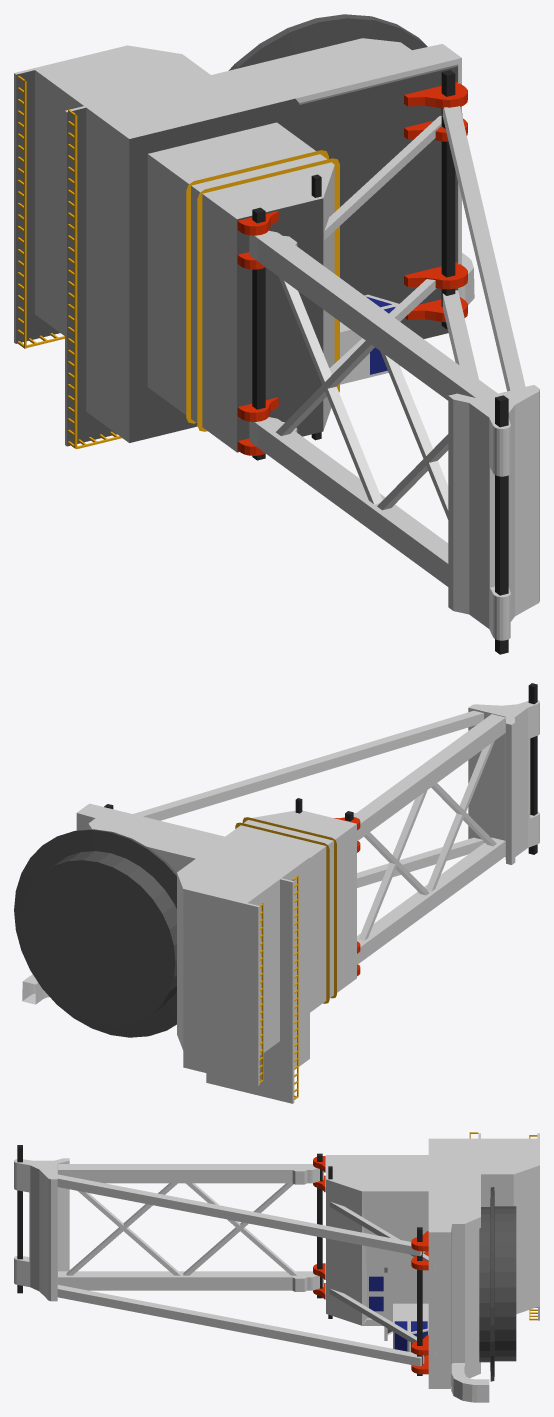
Rendered from crane_yaw.glb.
3 views of the same model, one above another, from view 1: azimuth 30°, elevation 25°; view 2: azimuth 150°, elevation 25°; view 3: azimuth 270°, elevation 25° (orthographic). The views are drawn at different scales.
Parts seen in each view (by area): view 1: SEP_main_crane_yaw; view 2: SEP_main_crane_yaw; view 3: SEP_main_crane_yaw.
Part boxes in pixels (left/top/right/bottom): SEP_main_crane_yaw: left=14, top=14, right=539, bottom=654; SEP_main_crane_yaw: left=14, top=683, right=539, bottom=1103; SEP_main_crane_yaw: left=14, top=1132, right=539, bottom=1402.
Size of the model in its own units: 23.24 by 19.23 by 44.95.
